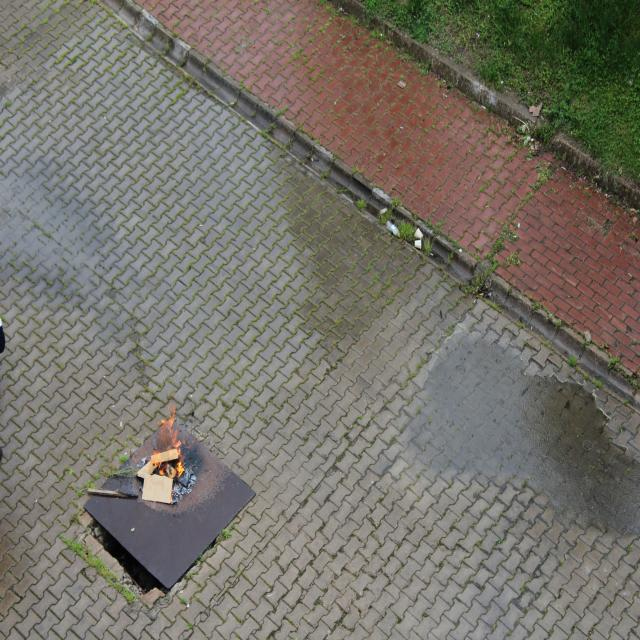fire: (142, 405, 194, 497)
